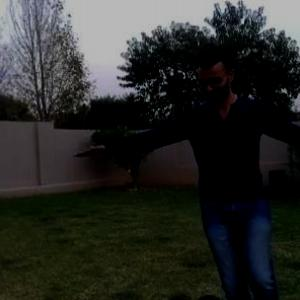land: (129, 68, 299, 295)
